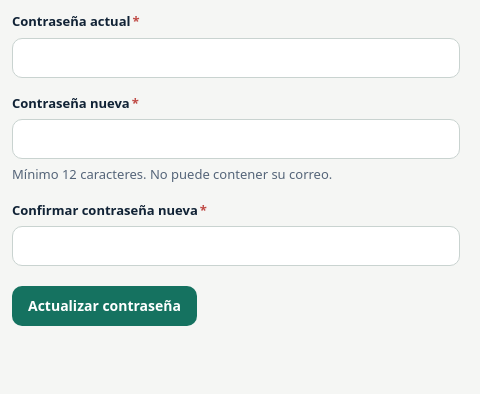
Test: ChangePasswordForm › requires every field
Click the button "Actualizar contraseña" at (104, 306), box [12,286,197,326]
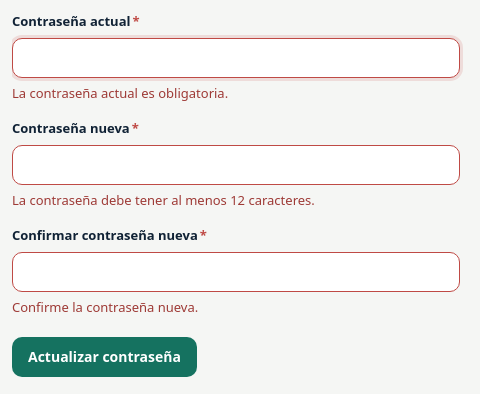
Result: the text "La contraseña actual es obligatoria." is shown at [12,84,228,102]
Result: the text "La contraseña debe tener al menos 12 caracteres." is shown at [12,190,315,208]
Result: the text "Confirme la contraseña nueva." is shown at [12,298,198,316]
